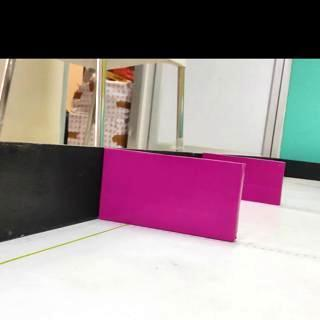xparking: (100, 148, 242, 242), (241, 157, 284, 206)
